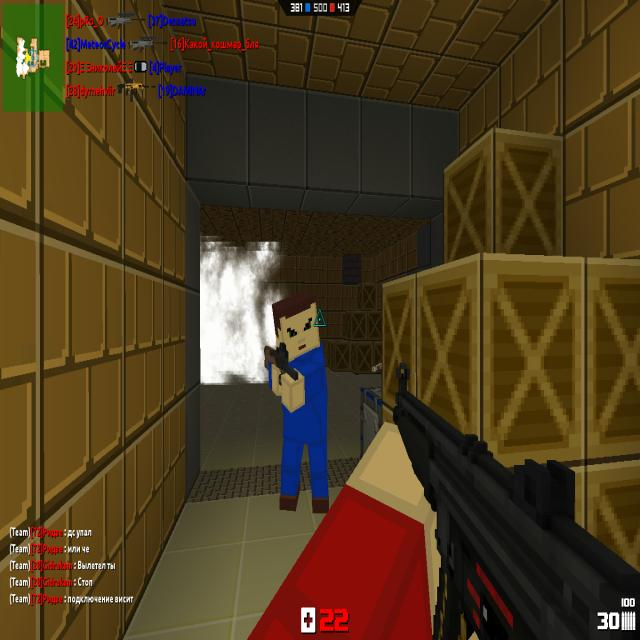enemy: (263, 288, 331, 518)
